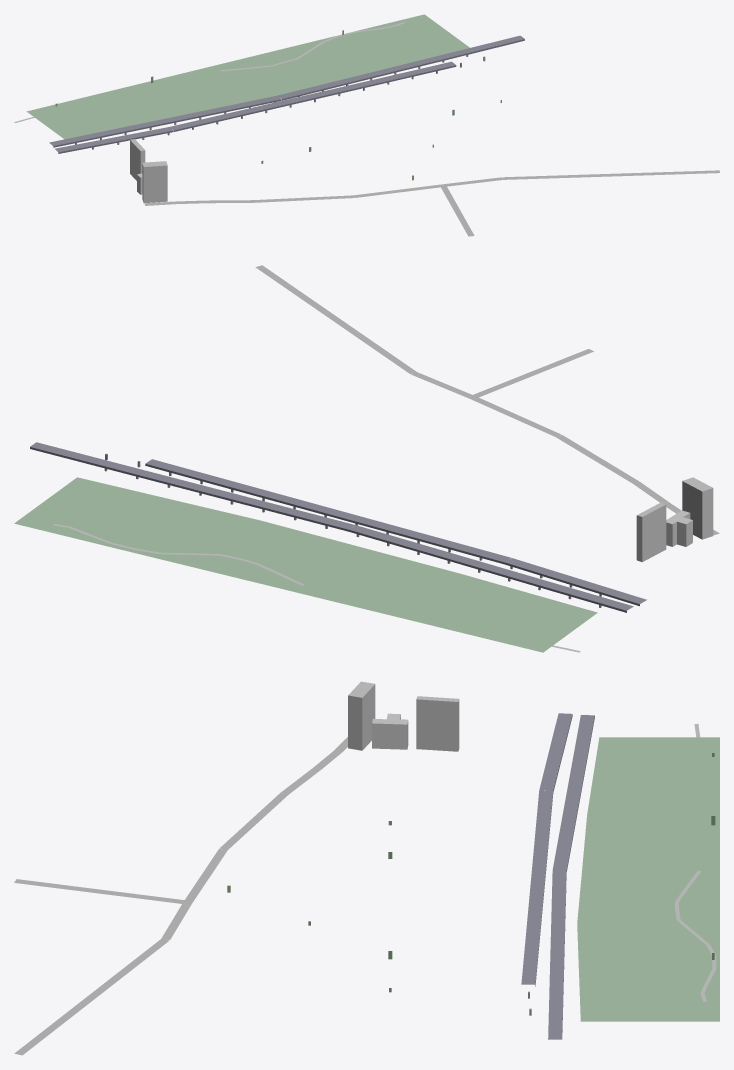
The picture shows the model from 3 angles, top to bottom: view 1: azimuth 30°, elevation 25°; view 2: azimuth 150°, elevation 25°; view 3: azimuth 270°, elevation 25°; orthographic projection. The views are drawn at different scales.
Bounding box in the file's own units: 601 × 43.4 × 525.
